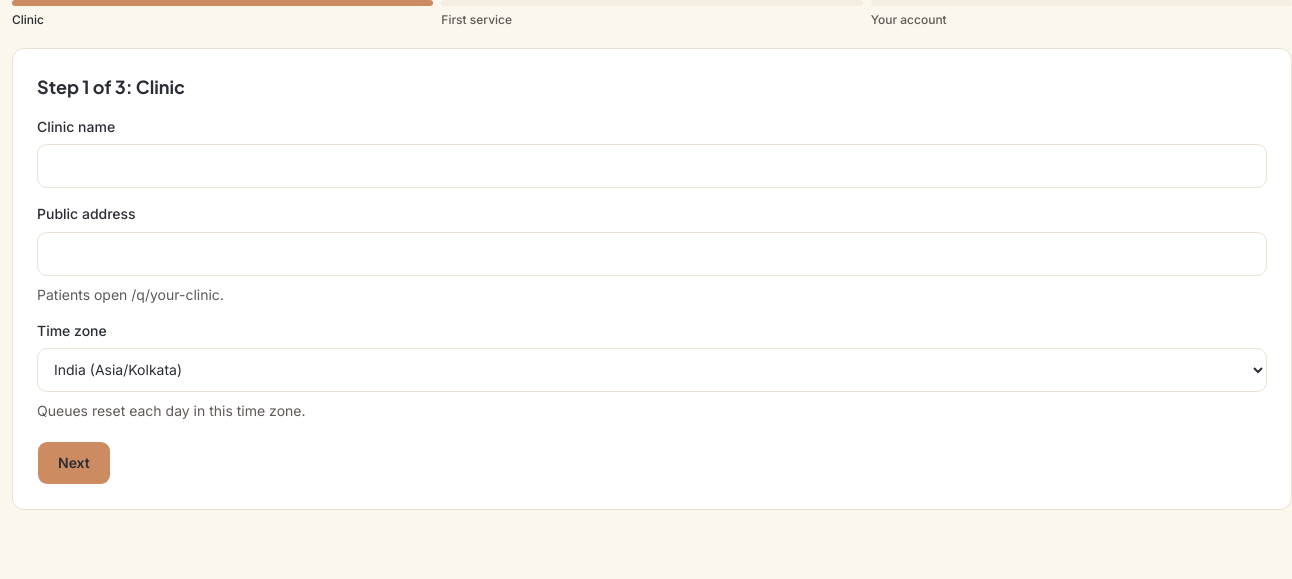
Scenario: SignupWizard › checks the first step before moving on
What coordinates should you click on to do the following:
click the button "Next"
I would click on:
 (74, 463)
Its box is x1=37 y1=441 x2=111 y2=485.
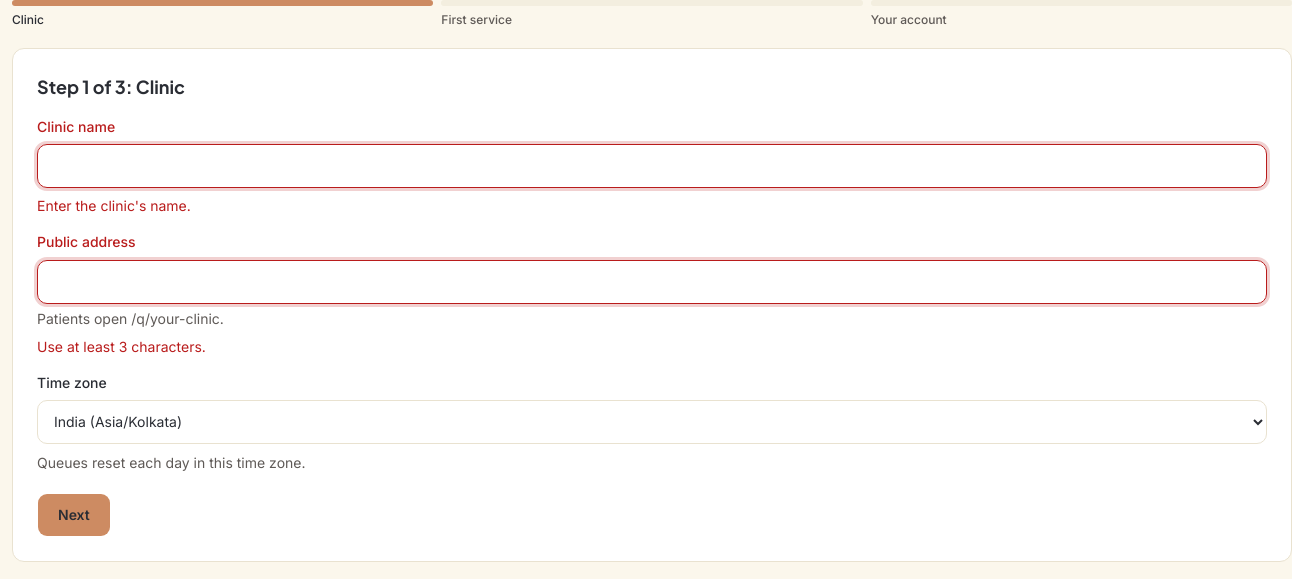
Check: the heading "Step 1 of 3: Clinic" is shown, box x1=37 y1=75 x2=185 y2=98
Check: the text "Enter the clinic's name." is shown, box x1=37 y1=197 x2=191 y2=214
